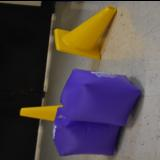cone: (54, 4, 118, 58), (20, 104, 64, 120)
cube: (60, 68, 142, 126), (52, 106, 120, 156)
